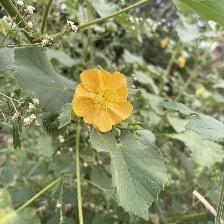indian mallow: (73, 69, 137, 134)
